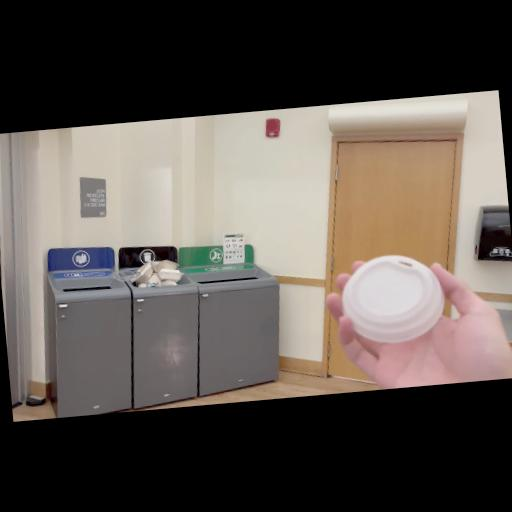lp_cup_lids: (339, 250, 450, 348)
